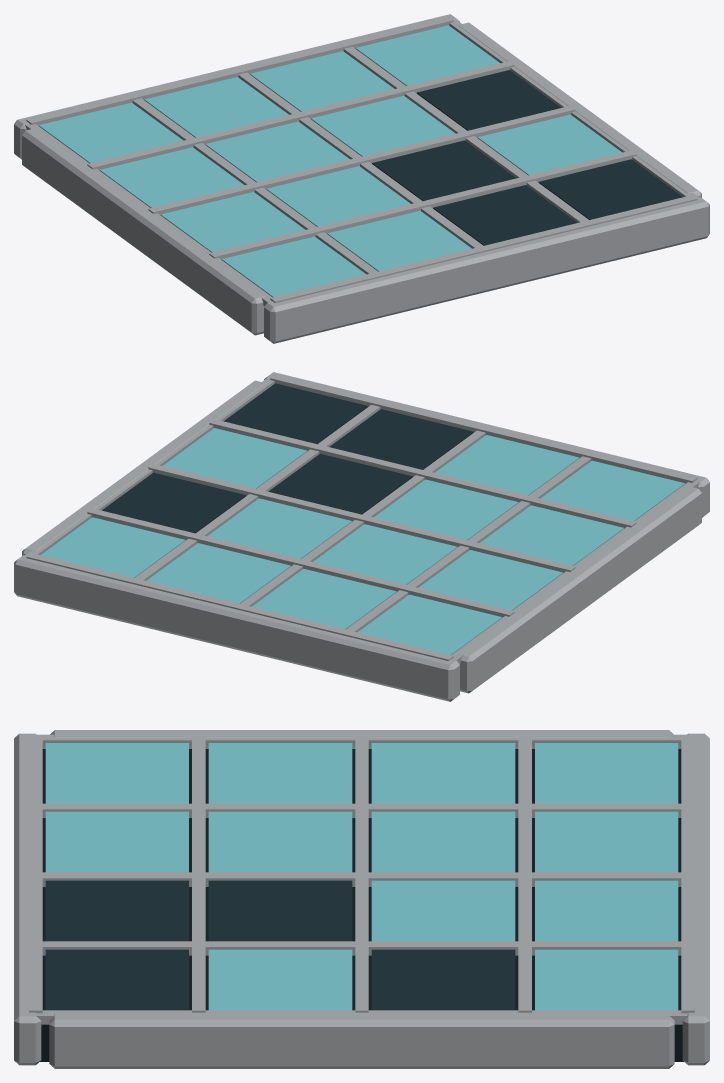
File: lit_dancefloor_module.glb
The picture shows the model from 3 angles, top to bottom: view 1: azimuth 30°, elevation 25°; view 2: azimuth 150°, elevation 25°; view 3: azimuth 270°, elevation 25°; orthographic projection. The views are drawn at different scales.
Parts seen in each view (by area): view 1: lit_dancefloor_module; view 2: lit_dancefloor_module; view 3: lit_dancefloor_module.
Part boxes in pixels (x1,y1,x2,y2): lit_dancefloor_module: (14, 14, 709, 343); lit_dancefloor_module: (14, 372, 709, 701); lit_dancefloor_module: (14, 730, 709, 1068).
Bounding box in the file's own units: 2.56 × 0.208 × 2.56.
